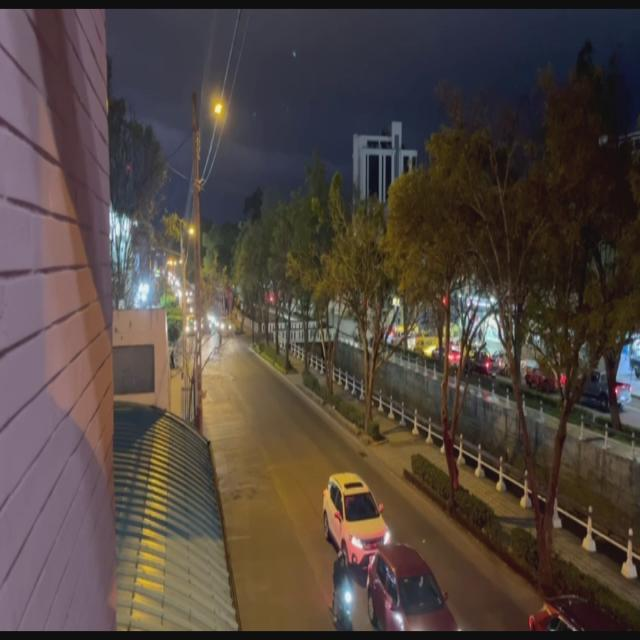MOTORCYCLE: (331, 554, 358, 636)
SUV: (369, 541, 458, 638)
